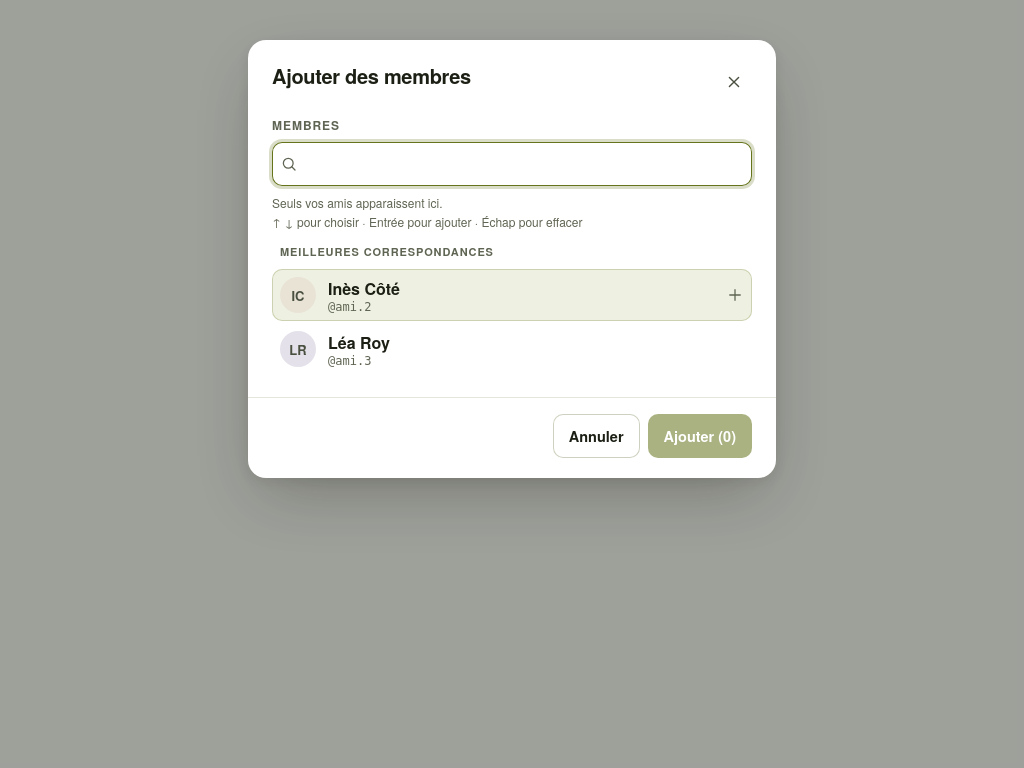
Test case: features/add-group-members : Ajouter des membres (GRP-03, GRP-04, ADR 0041) › ADR 0041 (point 4) : {"name":"ApiError","status":409,"code":"GROUP_FULL","fields":[],"retryAfterSeconds":null,"requestId":null} s’annonce
This screenshot has width=1024, height=768.
Click the option "IC Inès Côté @ami.2": point(298, 295) [272, 269, 752, 321]
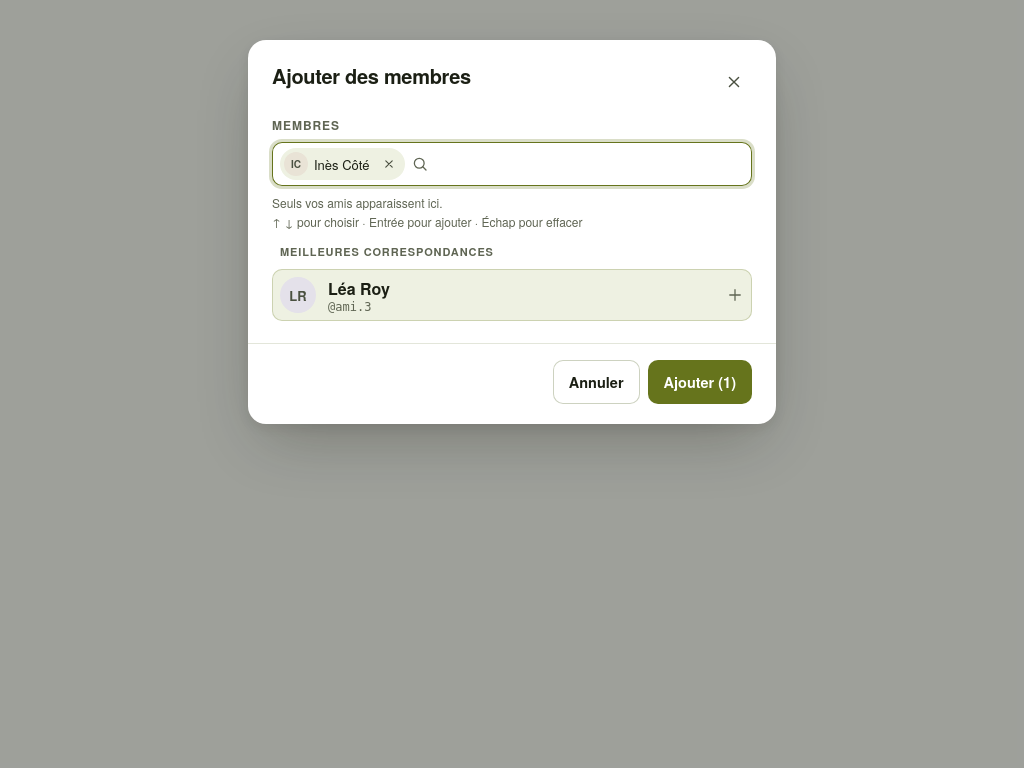
Click the button "Ajouter (1)": point(700, 382) [648, 360, 752, 404]
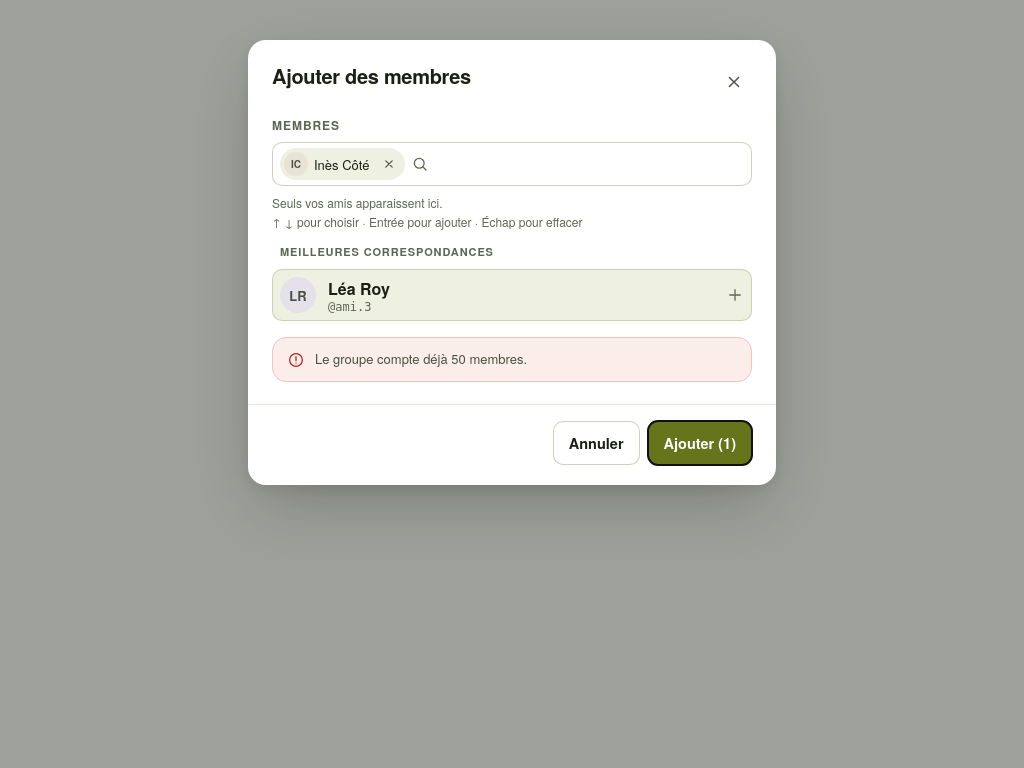
Result: the message reads "Le groupe compte déjà 50 membres." at [315, 349, 527, 368]
